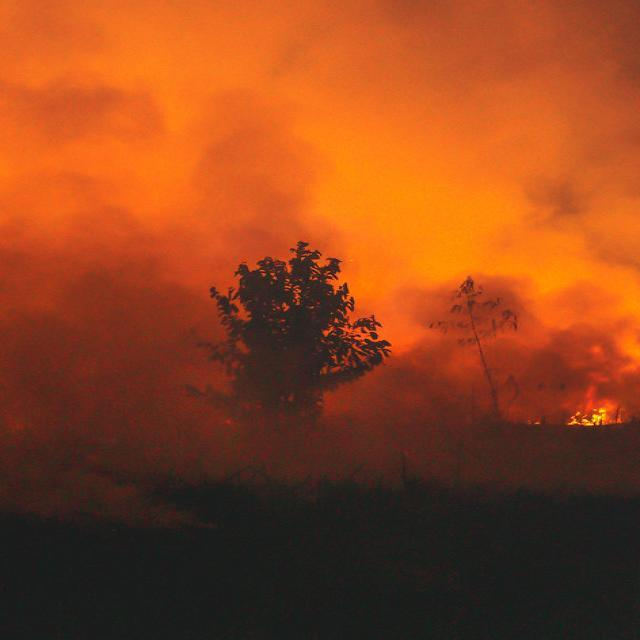Fire: (564, 402, 628, 432)
Smoke: (5, 18, 204, 352), (403, 170, 640, 402)
